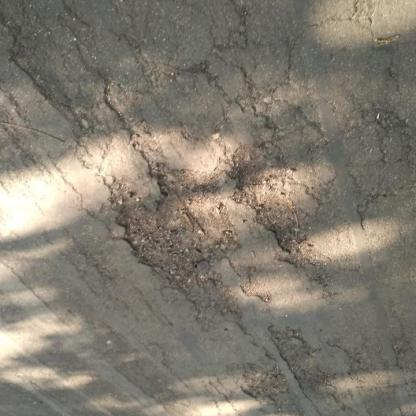pothole: (104, 165, 235, 285), (227, 147, 309, 258), (241, 363, 288, 407)
